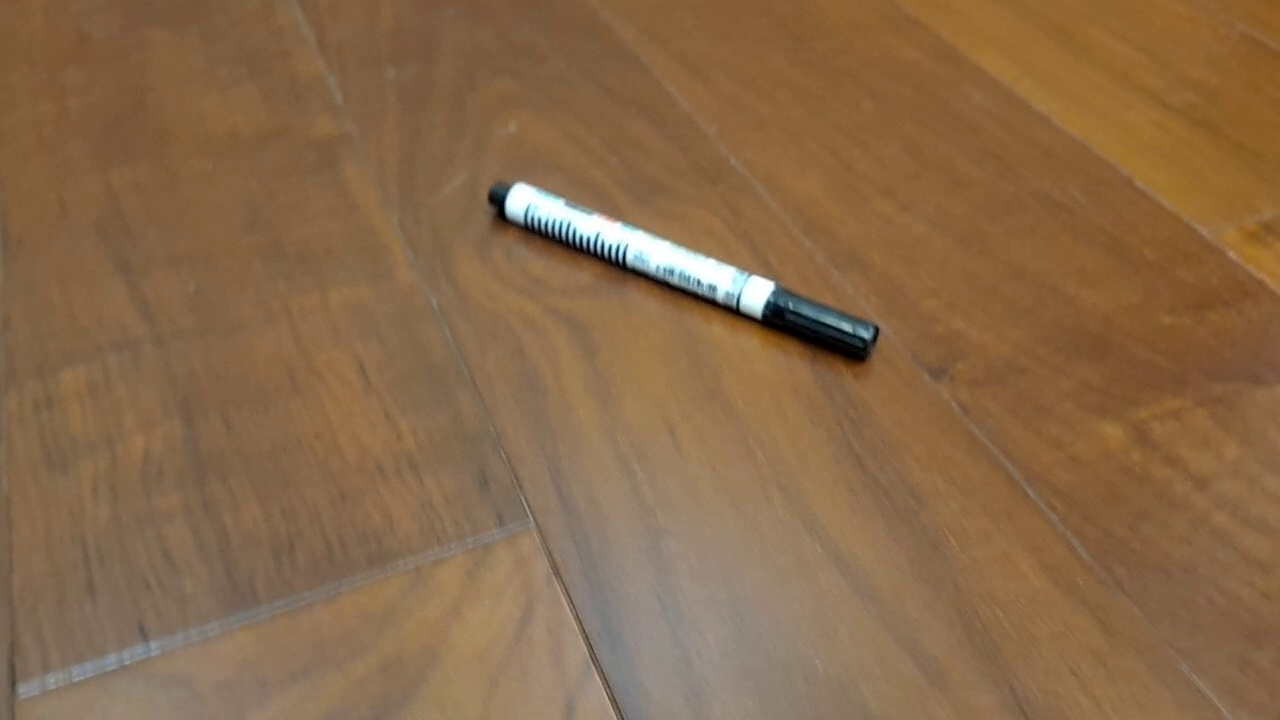pen: (486, 178, 880, 364)
